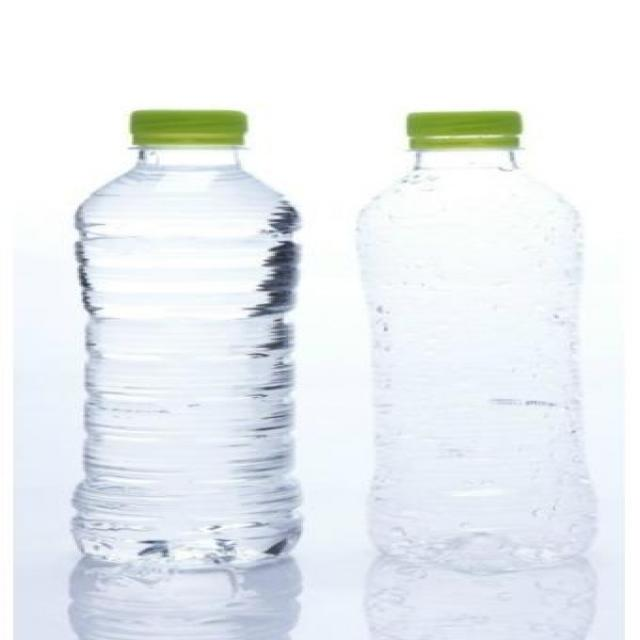bottle: (41, 84, 324, 629), (338, 93, 618, 631)
